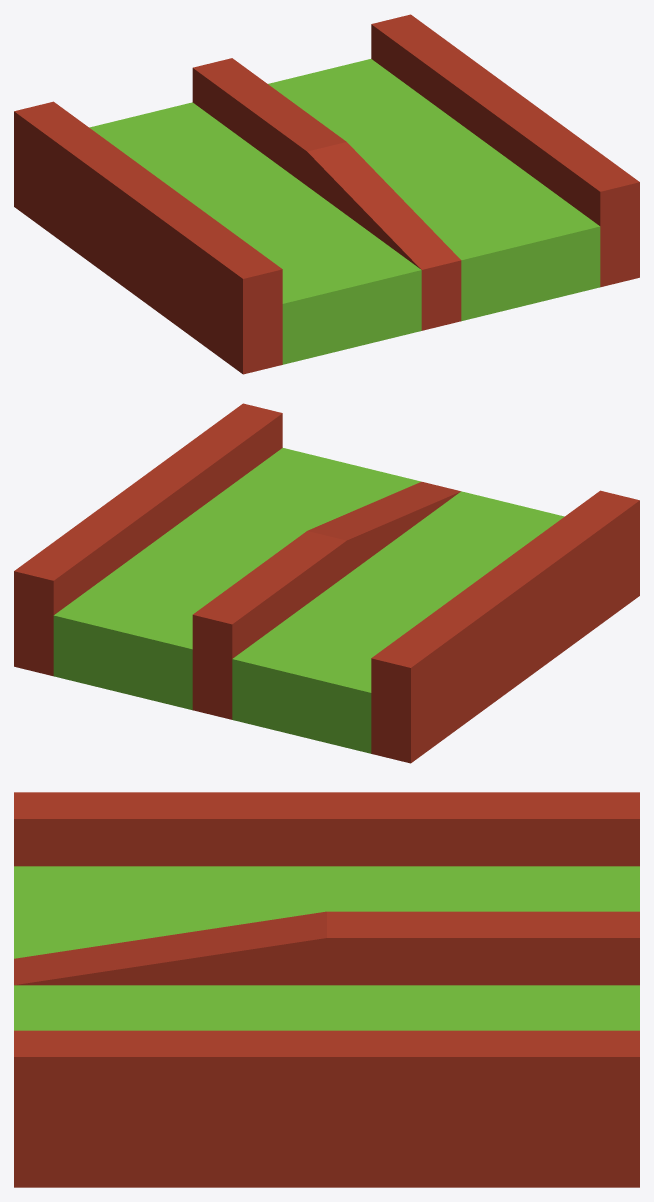
File: Split_Start.FBX
The picture shows the model from 3 angles, top to bottom: view 1: azimuth 30°, elevation 25°; view 2: azimuth 150°, elevation 25°; view 3: azimuth 270°, elevation 25°; orthographic projection. The views are drawn at different scales.
Parts seen in each view (by area): view 1: Walls, Split_start_01; view 2: Walls, Split_start_01; view 3: Walls, Split_start_01.
Boxes of the visible parts, x1=… form: Walls: x1=14, y1=14, x2=639, y2=374; Split_start_01: x1=89, y1=59, x2=600, y2=364; Walls: x1=14, y1=403, x2=639, y2=763; Split_start_01: x1=53, y1=448, x2=564, y2=753; Walls: x1=14, y1=792, x2=639, y2=1187; Split_start_01: x1=14, y1=866, x2=639, y2=1030.
Bounding box in the file's own units: 0.9999 × 0.9999 × 0.23.
